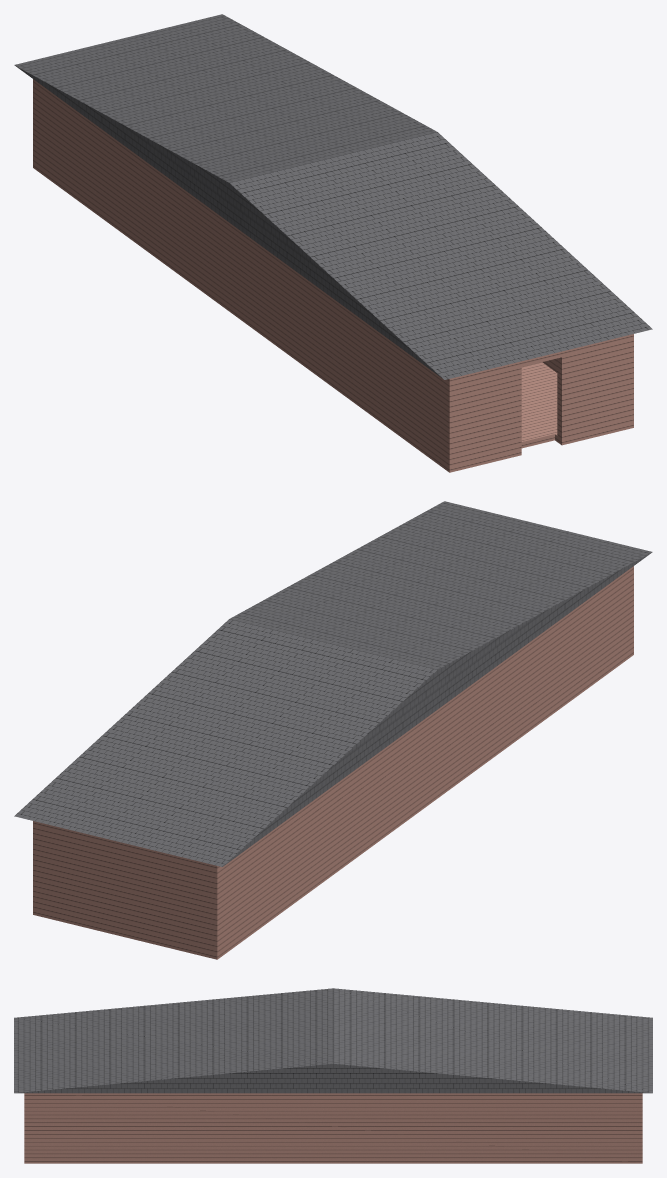
Rendered from mobile_home.glb.
3 renders of one model, top to bottom at view 1: azimuth 30°, elevation 25°; view 2: azimuth 150°, elevation 25°; view 3: azimuth 270°, elevation 25°, orthographic. The views are drawn at different scales.
Visible parts, largest first — view 1: mobile_home-col; view 2: mobile_home-col; view 3: mobile_home-col.
Boxes of the visible parts, box(x1,y1,x2,y2) form: mobile_home-col: box(14, 14, 652, 472); mobile_home-col: box(14, 501, 652, 959); mobile_home-col: box(14, 988, 652, 1163).
Size of the model in its own units: 5.2 by 3.35 by 18.6.
2 materials, 2 textured.
